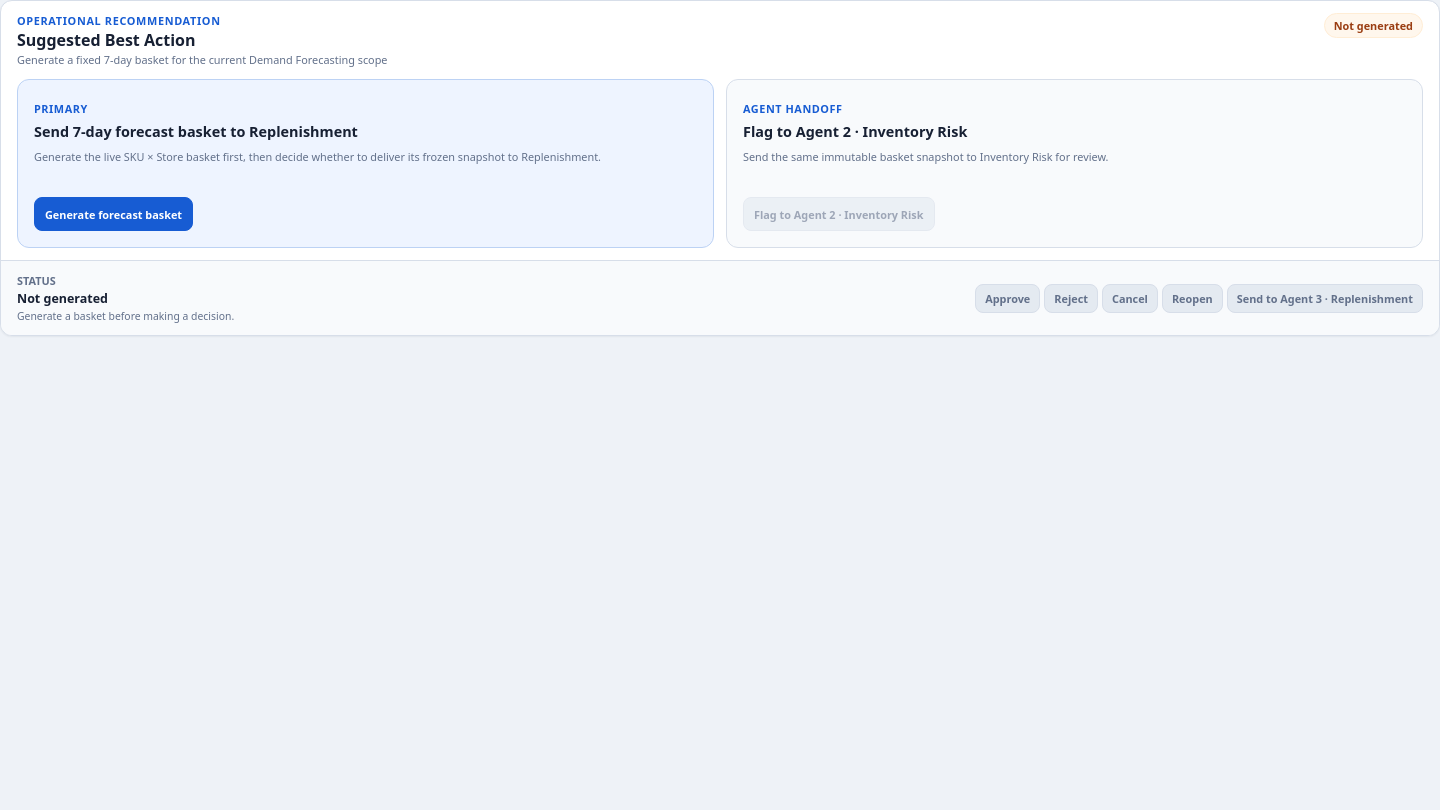
Test: DemandSuggestedActions › keeps a large all-row basket paginated instead of mounting every row
Click the button "Generate forecast basket": [114, 214] box left=34, top=197, right=193, bottom=231
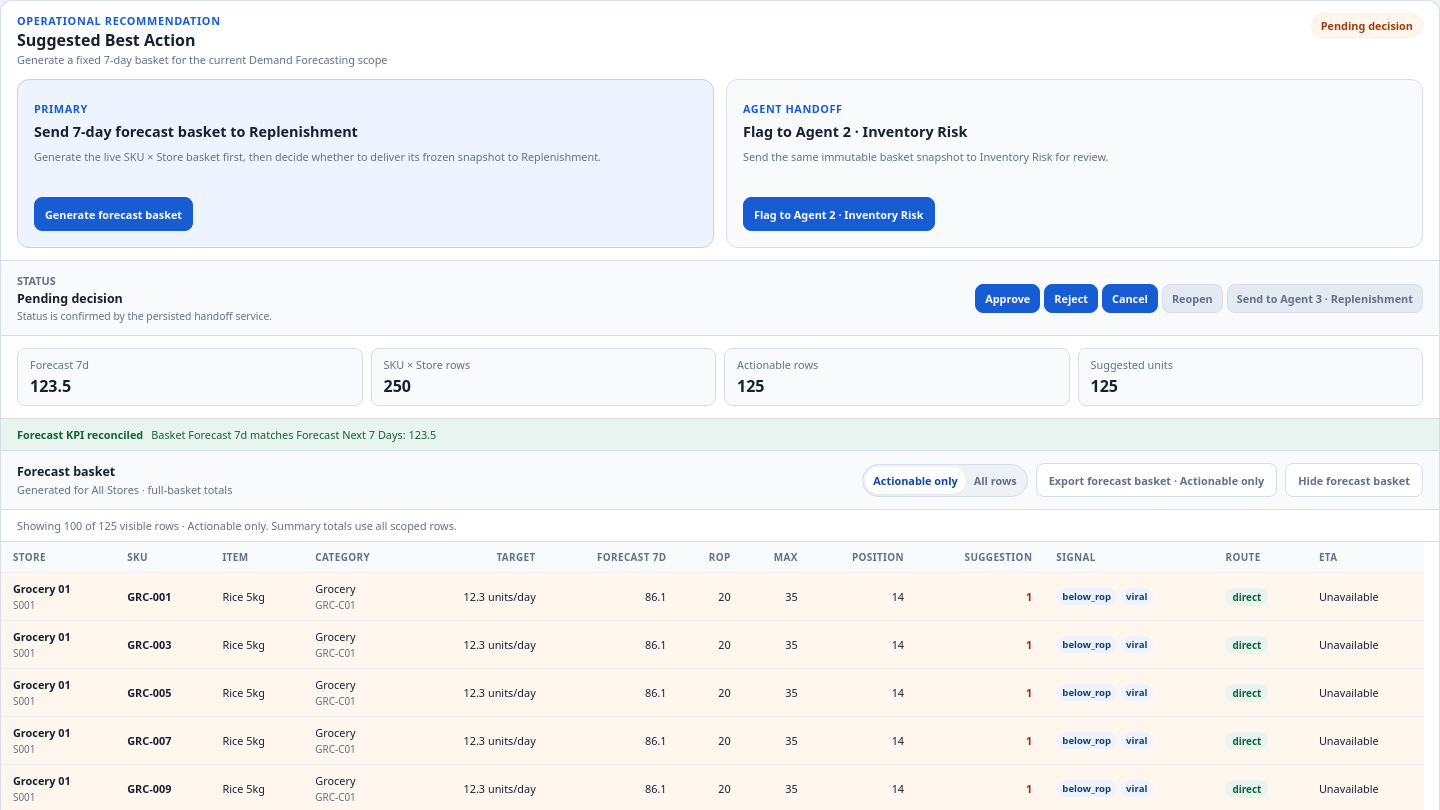
Check: the text "Forecast KPI reconciled" is shown, box left=17, top=427, right=143, bottom=442
Click the button "All rows": [995, 480] box left=966, top=466, right=1025, bottom=494
(page scrolled)
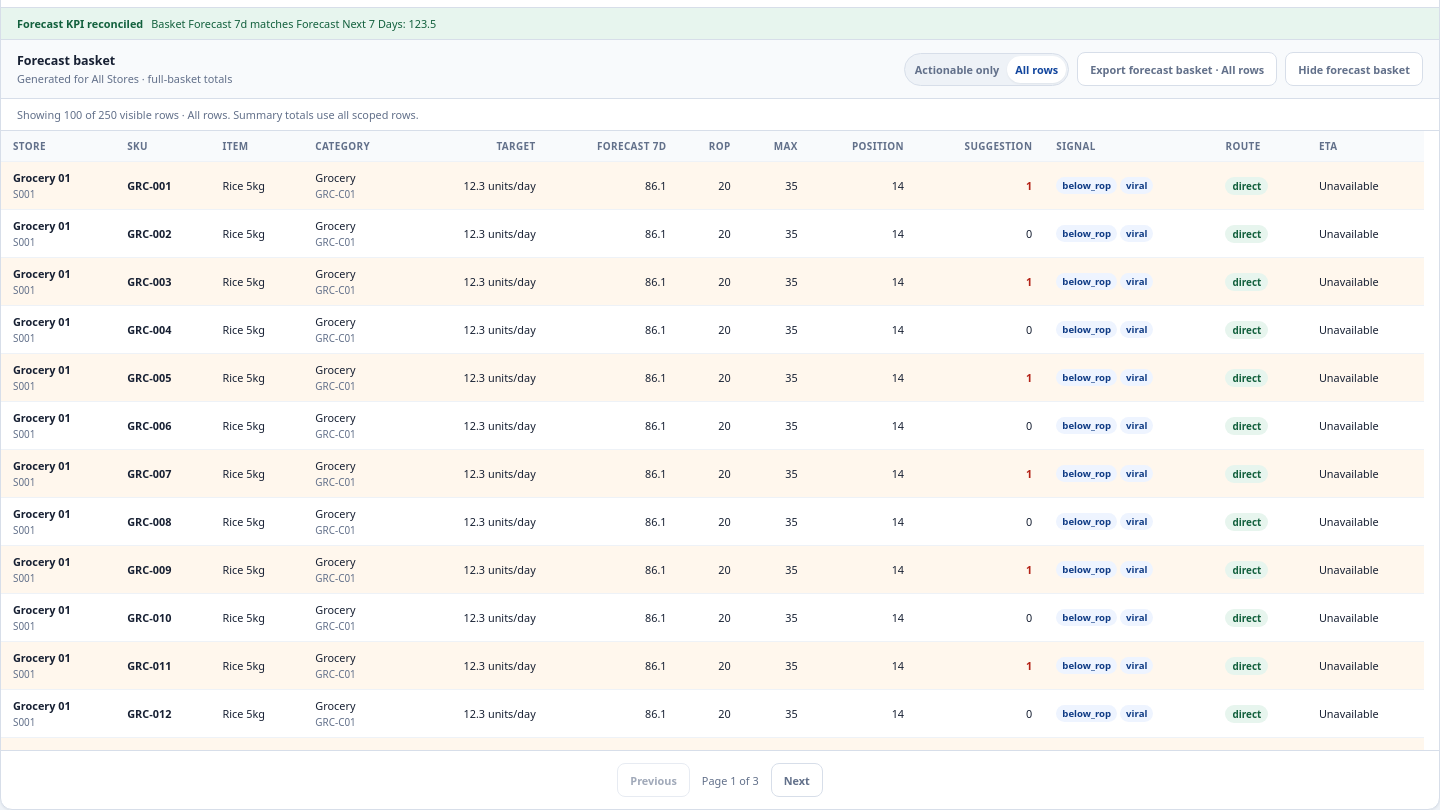
Check: the text "Page 1 of 3" is shown, box left=702, top=772, right=759, bottom=788
